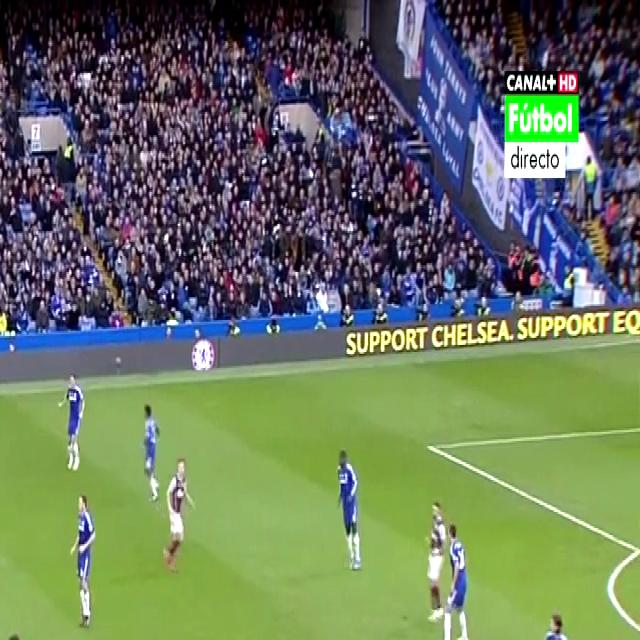soccer-player: (327, 432, 368, 574), (67, 485, 102, 634), (419, 488, 453, 620), (441, 514, 474, 640), (162, 454, 194, 582), (57, 363, 87, 474), (138, 392, 164, 506), (526, 601, 575, 640), (0, 622, 42, 640)
